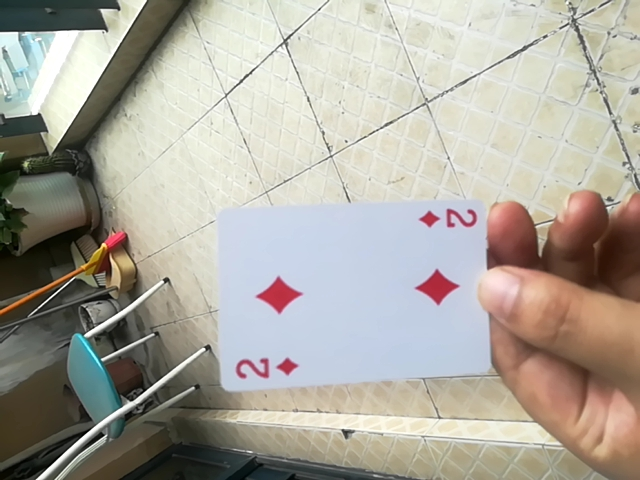fk 2: (212, 201, 493, 390)
